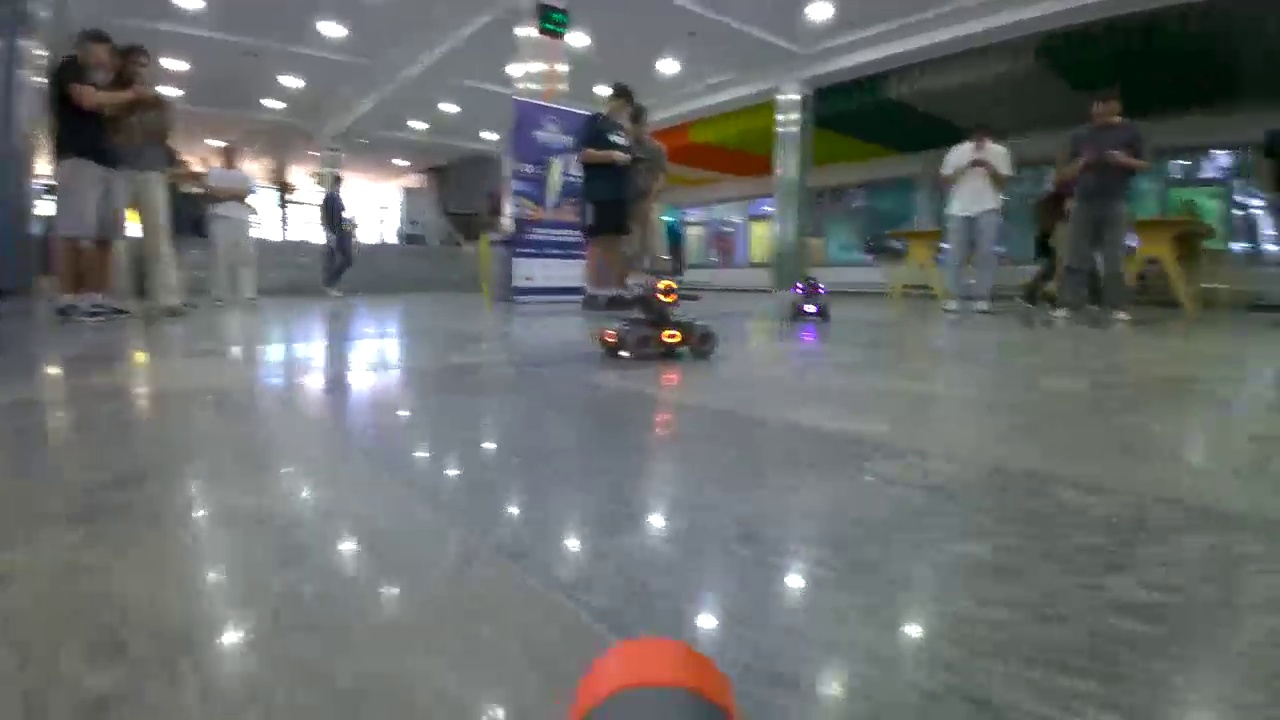robot: (597, 277, 718, 361), (790, 276, 831, 321)
